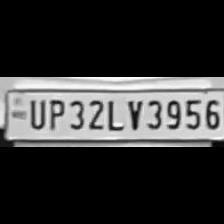2: (84, 96, 104, 132)
3: (143, 96, 163, 130), (65, 96, 84, 130)
5: (182, 95, 200, 129)
6: (201, 95, 221, 129)
9: (162, 95, 182, 129)
L: (103, 96, 123, 132)
P: (45, 96, 65, 130)
U: (24, 95, 46, 129)
V: (122, 96, 144, 130)
